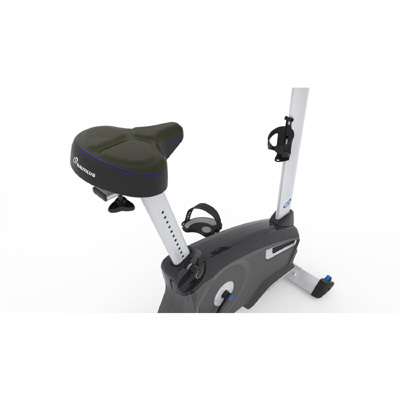gym_bike: (64, 92, 352, 306)
